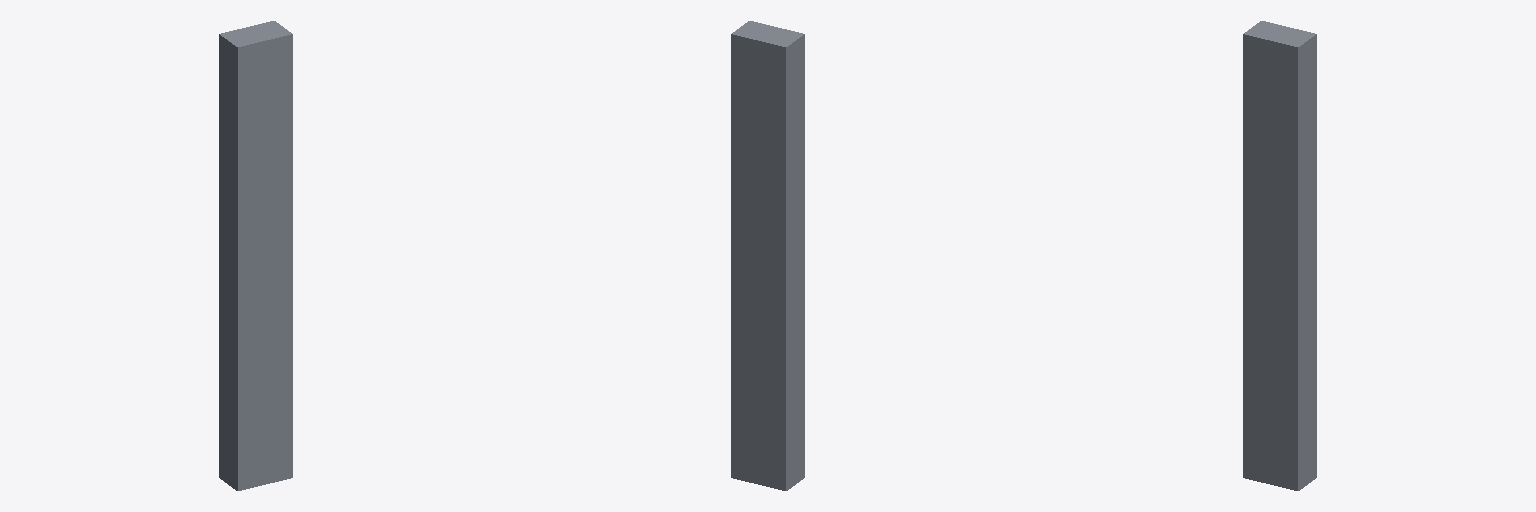
The robot description file, URDF, robot "artmanip_knife_000":
<?xml version='1.0' encoding='utf-8'?>
<robot name="artmanip_knife_000"><link name="link_0"><inertial><mass value="0.02820746014328265" /><inertia ixx="4.420284531095943e-05" iyy="4.47002510083569e-05" izz="9.993728871510225e-07" ixy="0" ixz="0" iyz="0" /></inertial><visual><geometry><box size="0.017843186466125014 0.010333115865695573 0.13674053327690386" /></geometry><material name="link_0_color"><color rgba=".58 .60 .64 1" /></material></visual><collision><geometry><box size="0.017843186466125014 0.010333115865695573 0.13674053327690386" /></geometry></collision></link><link name="link_1"><inertial><mass value="0.006" /><inertia ixx="4.545e-07" iyy="5e-07" izz="5.45e-08" ixy="0" ixz="0" iyz="0" /></inertial><visual><geometry><mesh filename="slider-shoulder.obj" /></geometry><material name="link_1_color"><color rgba=".12 .13 .15 1" /></material></visual><collision><geometry><mesh filename="slider-shoulder.obj" /></geometry></collision></link><joint name="slider" type="prismatic"><parent link="link_0" /><child link="link_1" /><origin xyz="-9.830424665306994e-08 0.005980445166110746 0.014447741032912725" /><axis xyz="0 0 1" /><limit lower="-0.03267458688196273" upper="0.017325413118037272" effort="100" velocity="1" /><dynamics damping="1000" friction="0.001" /></joint></robot>

--- What the picture shows (computed from the rendered views, not written in the file) ---
Views: 3 orthographic renders of the robot side by side, from view 1: azimuth 30°, elevation 25°; view 2: azimuth 150°, elevation 25°; view 3: azimuth 330°, elevation 25°.
Model artmanip_knife_000 with 2 links and 1 joints (1 prismatic), rooted at link_0, posed all joints at 0.
Visible links, largest first — view 1: link_0; view 2: link_0; view 3: link_0.
Link boxes in pixels (x1,y1,x2,y2): link_0: [219, 21, 292, 490]; link_0: [731, 21, 804, 490]; link_0: [1243, 21, 1316, 490].
Size in the robot's own frame: 0.0178 by 0.0103 by 0.1367 metres.
Meshes: 1 distinct files referenced, 0 mesh visuals loaded (none loaded); not drawn: 1 (reference not matched to a file when rendering).
